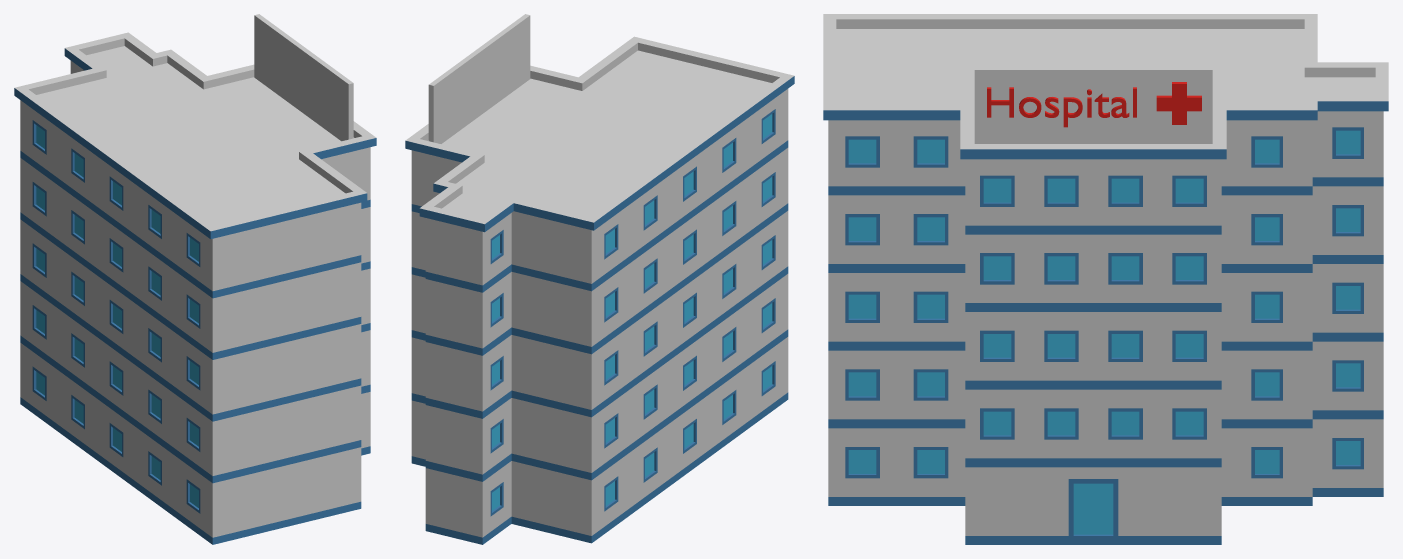
File: hospital.glb
3 renders of one model, left to right at view 1: azimuth 30°, elevation 25°; view 2: azimuth 150°, elevation 25°; view 3: azimuth 270°, elevation 25°, orthographic. The views are drawn at different scales.
Parts seen in each view (by area): view 1: Hospital; view 2: Hospital; view 3: Hospital.
Boxes of the visible parts, x1=… form: Hospital: x1=14, y1=14, x2=376, y2=544; Hospital: x1=405, y1=14, x2=794, y2=544; Hospital: x1=823, y1=14, x2=1388, y2=544.
Bounding box in the file's own units: 788 × 1266 × 1389.
